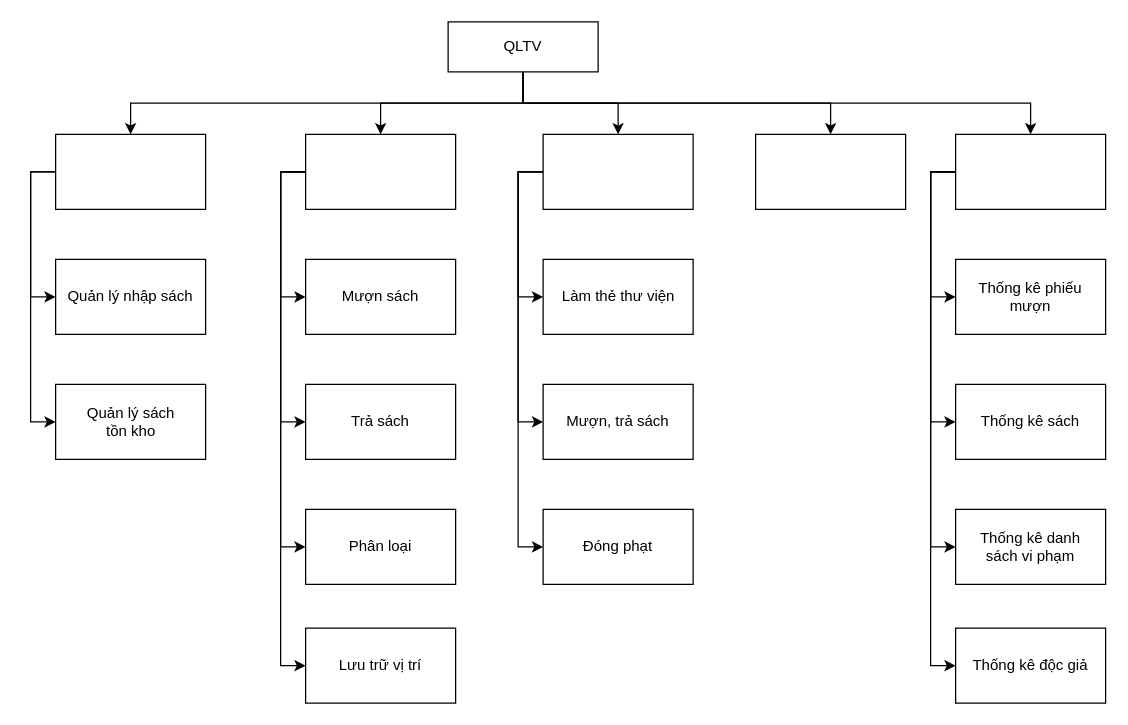
This 1128x725 diagram has some shape labels left out. The centre of each missing label's shape, as x and y in pixels:
Quản lý kho: [130,171]
Quản lý nhân viên: [830,171]
Quản lý sách: [380,171]
Quản lý độc giả: [617,171]
Thống kê: [1030,171]
